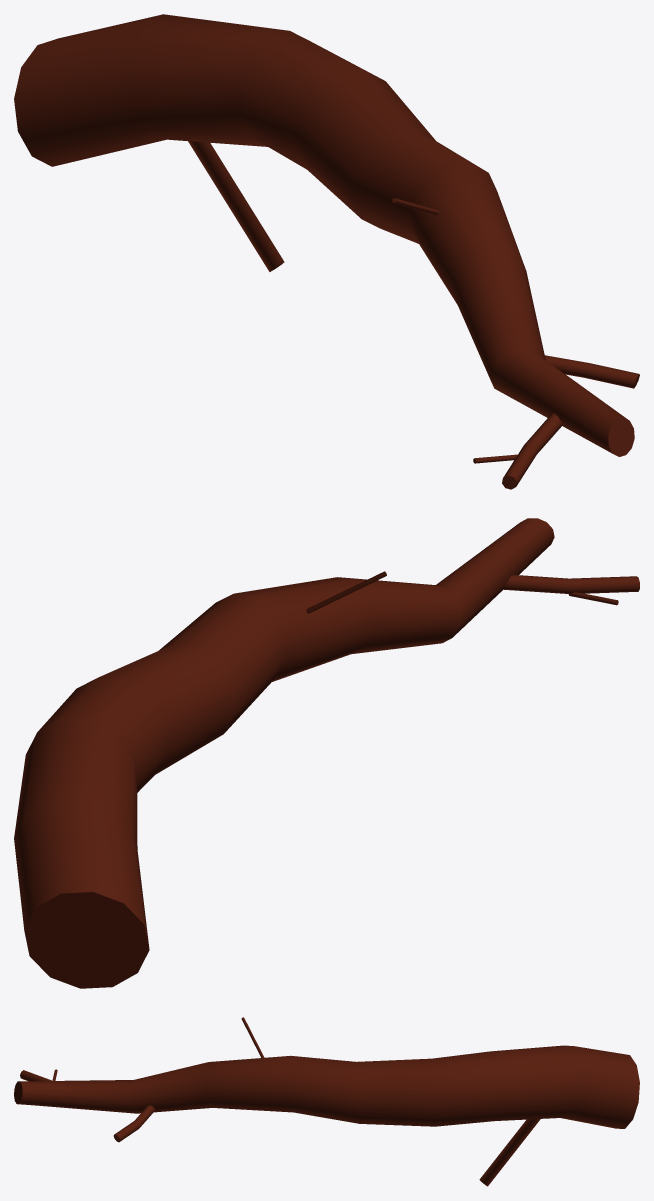
Rendered from log_body_01.fbx.
3 renders of one model, top to bottom at view 1: azimuth 30°, elevation 25°; view 2: azimuth 150°, elevation 25°; view 3: azimuth 270°, elevation 25°, orthographic. The views are drawn at different scales.
Visible parts, largest first — view 1: log_body_01; view 2: log_body_01; view 3: log_body_01.
Boxes of the visible parts, <box> form: log_body_01: <box>14,14,639,489</box>; log_body_01: <box>14,518,639,988</box>; log_body_01: <box>14,1017,639,1186</box>.
Size of the model in its own units: 89.77 by 86.57 by 341.
